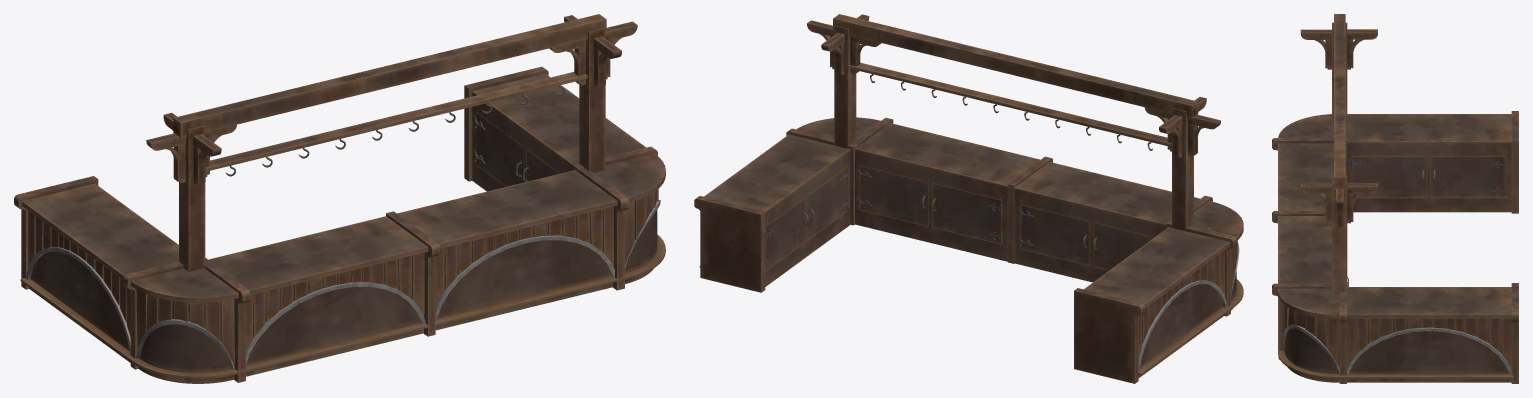
File: SM_bar_03_a243a5.glb
3 views of the same model, side by side, from view 1: azimuth 30°, elevation 25°; view 2: azimuth 150°, elevation 25°; view 3: azimuth 270°, elevation 25° (orthographic). The views are drawn at different scales.
Size of the model in its own units: 6.66 by 2.88 by 3.41.
Materials: 1 (1 with a texture image).
